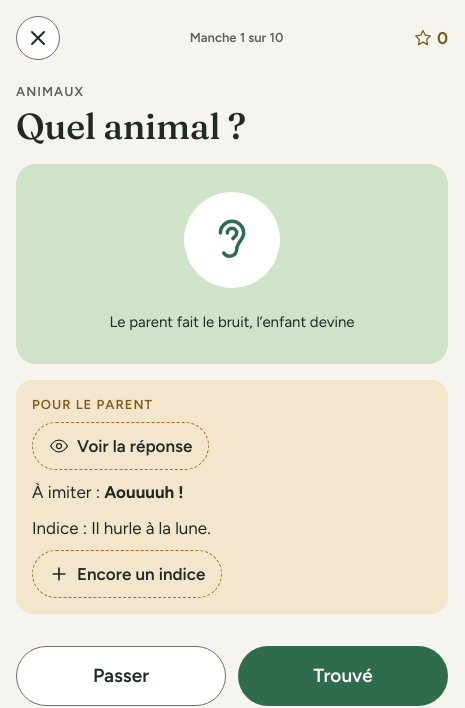
Ajouter un jeu : catalogue › Quelle couleur et Quel animal affichent leur carte
Later steps or results of the test are not shown.
Expected: the text "Le parent fait le bruit, l’enfant devine" is shown, [110,308,354,336]
Expected: the text "À imiter : Aouuuuh !" is shown, [32,482,184,502]
Click the button "Voir la réponse".
click(121, 446)  # box [32,422,209,470]
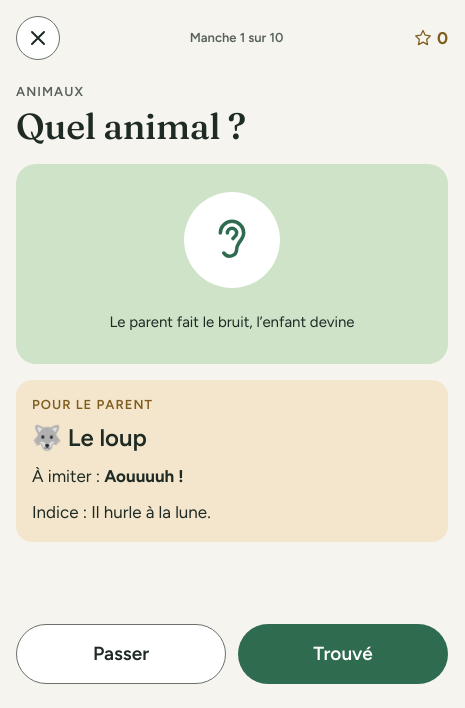
Result: the element labelled "Pour le parent" reads "Pour le parent 🐺 Le loup À imiter : Aouuuuh ! Indice : Il hurle à la lune." at [16,380,448,542]
